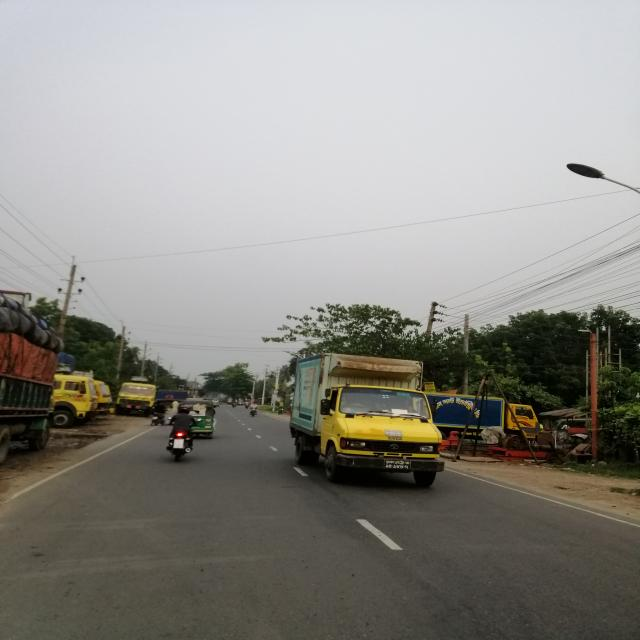Pick-up-van: (293, 356, 446, 488)
